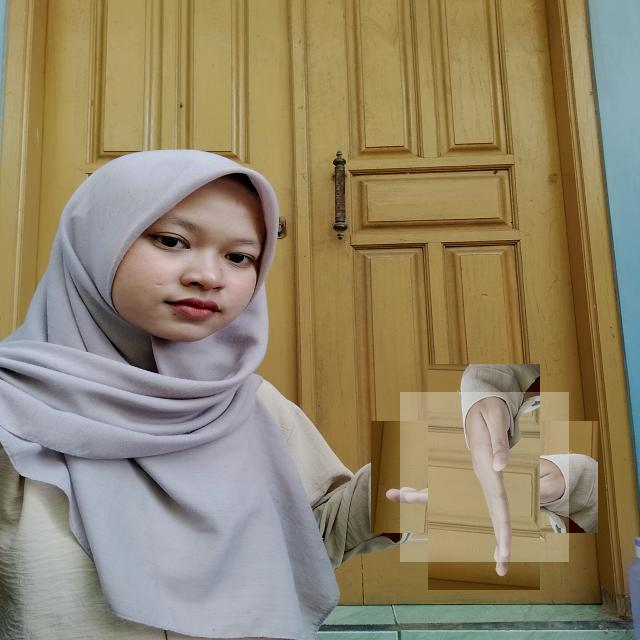adik: (400, 392, 569, 562)
